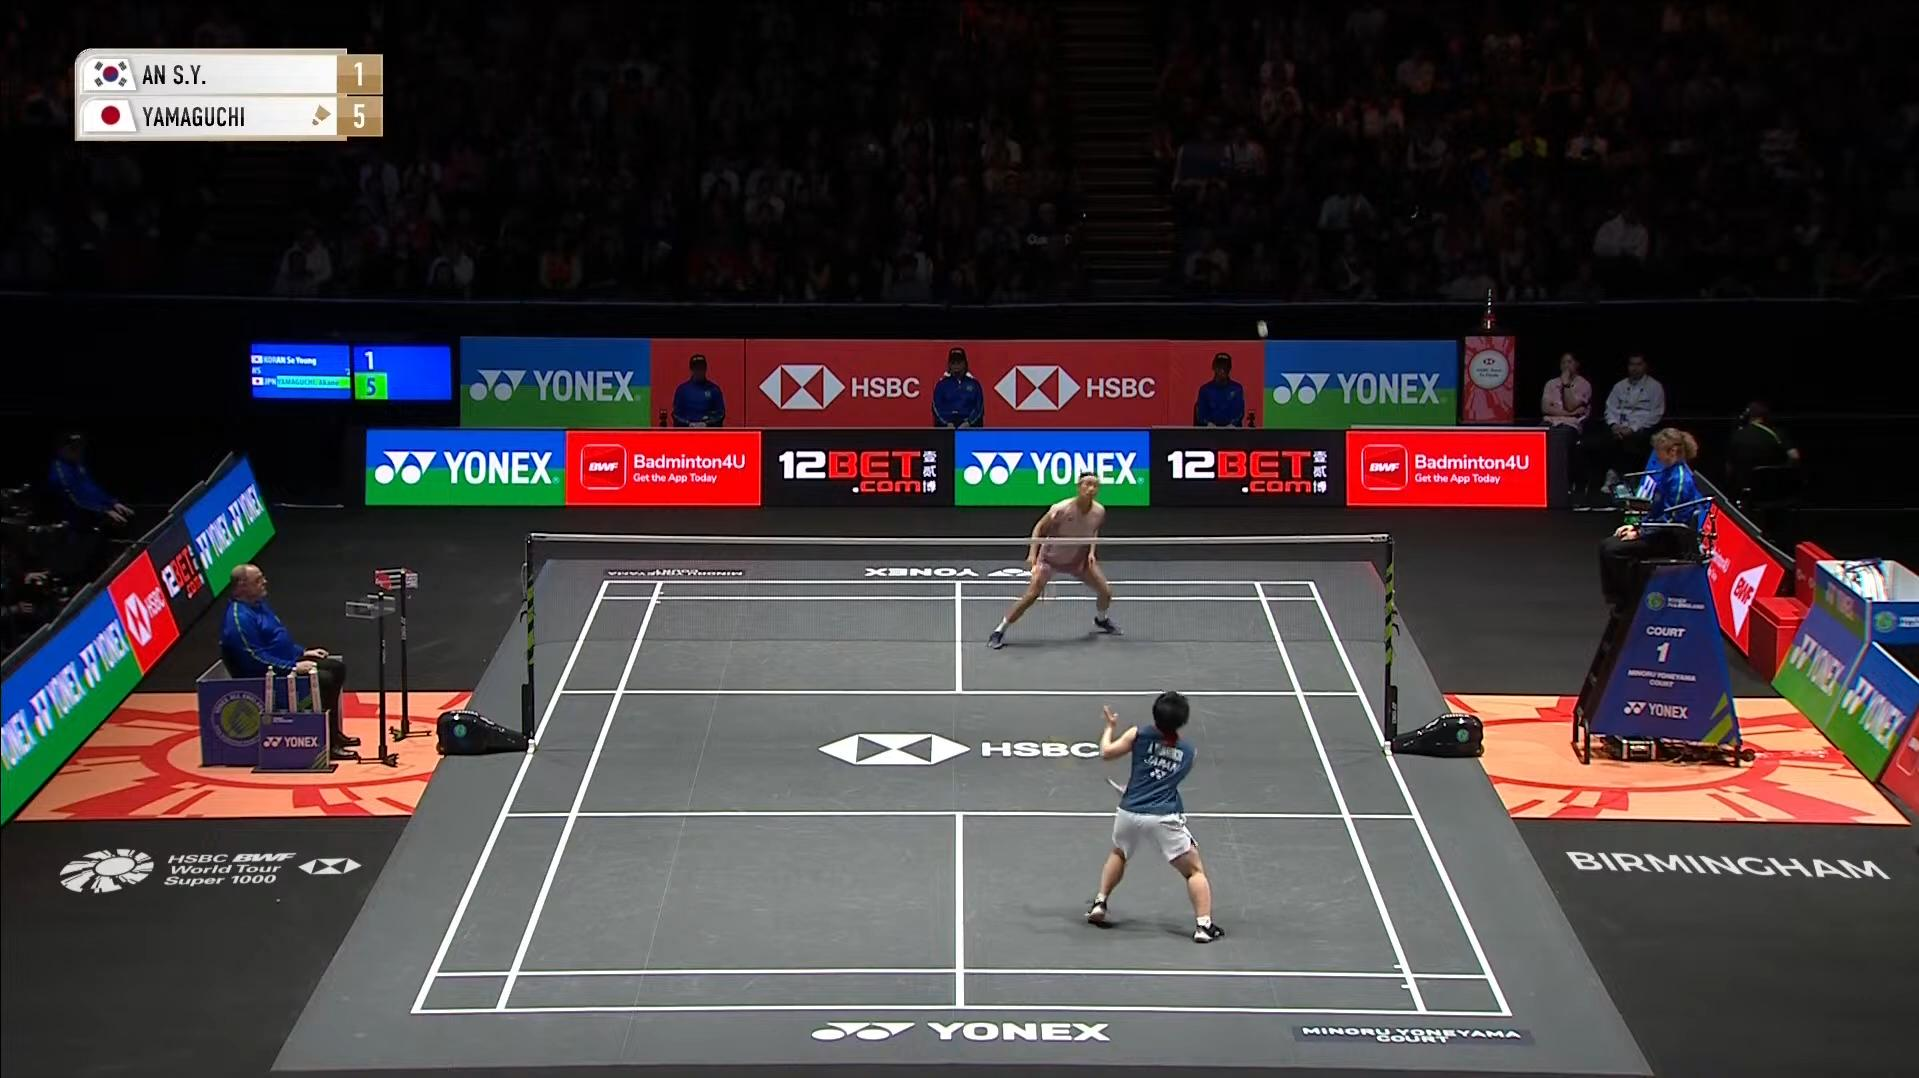shuttle: (1252, 319, 1278, 345)
